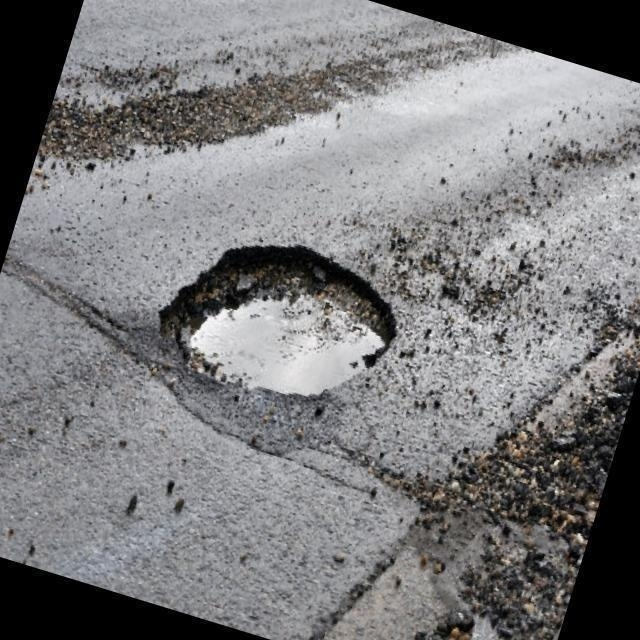pothole: (164, 238, 399, 403)
